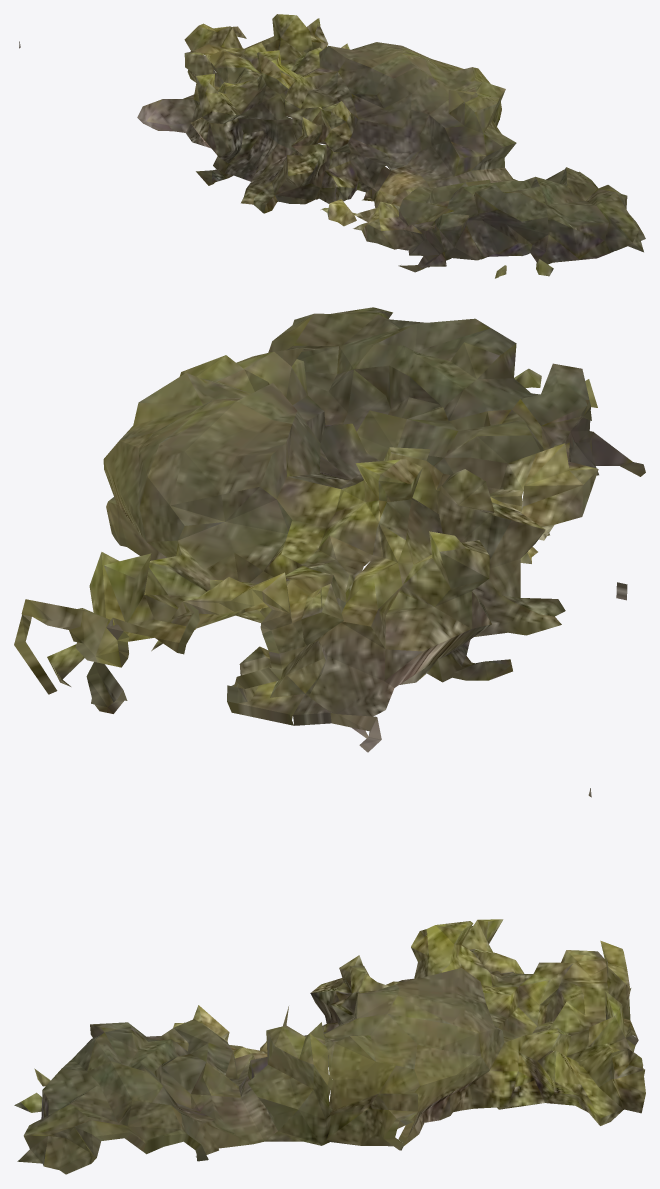
3 views of the same model, one above another, from view 1: azimuth 30°, elevation 25°; view 2: azimuth 150°, elevation 25°; view 3: azimuth 270°, elevation 25° (orthographic). The views are drawn at different scales.
Visible parts, largest first — view 1: Mesh_0; view 2: Mesh_0; view 3: Mesh_0.
Part boxes in pixels (<box>): Mesh_0: <box>19,14,645,278</box>; Mesh_0: <box>14,307,645,752</box>; Mesh_0: <box>14,788,645,1174</box>.
Bounding box in the file's own units: 33.44 × 10.39 × 38.04.
1 material, 1 textured.
